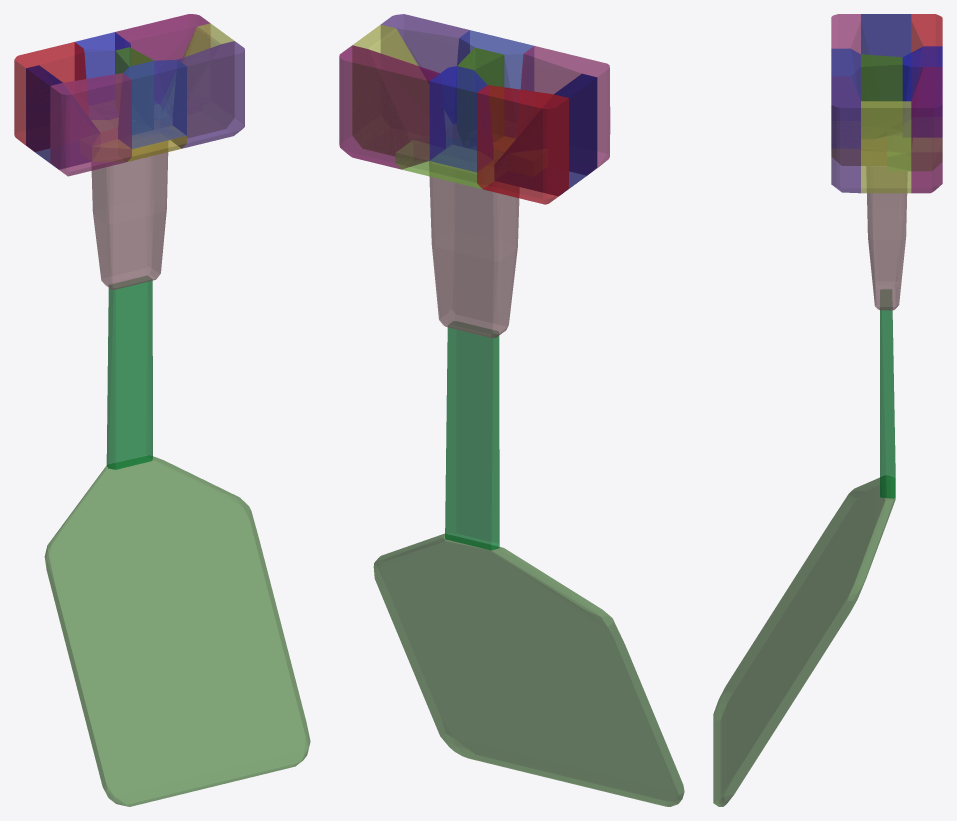
File: Holder_spatula.obj
3 views of the same model, side by side, from view 1: azimuth 30°, elevation 25°; view 2: azimuth 150°, elevation 25°; view 3: azimuth 270°, elevation 25° (orthographic). The views are drawn at different scales.
Visible parts, largest first — view 1: Shape_IndexedFaceSet_Shape_IndexedFaceSet.021, Shape_IndexedFaceSet.002_Shape_IndexedFaceSet.023, Shape_IndexedFaceSet.001_Shape_IndexedFaceSet.022, Shape_IndexedFaceSet.004_Shape_IndexedFaceSet.025, Shape_IndexedFaceSet.010_Shape_IndexedFaceSet.031, Shape_IndexedFaceSet.006_Shape_IndexedFaceSet.027, Shape_IndexedFaceSet.013_Shape_IndexedFaceSet.034, Shape_IndexedFaceSet.005_Shape_IndexedFaceSet.026, Shape_IndexedFaceSet.003_Shape_IndexedFaceSet.024, Shape_IndexedFaceSet.007_Shape_IndexedFaceSet.028, Shape_IndexedFaceSet.009_Shape_IndexedFaceSet.030, Shape_IndexedFaceSet.008_Shape_IndexedFaceSet.029 (+1 smaller); view 2: Shape_IndexedFaceSet_Shape_IndexedFaceSet.021, Shape_IndexedFaceSet.002_Shape_IndexedFaceSet.023, Shape_IndexedFaceSet.001_Shape_IndexedFaceSet.022, Shape_IndexedFaceSet.003_Shape_IndexedFaceSet.024, Shape_IndexedFaceSet.013_Shape_IndexedFaceSet.034, Shape_IndexedFaceSet.005_Shape_IndexedFaceSet.026, Shape_IndexedFaceSet.007_Shape_IndexedFaceSet.028, Shape_IndexedFaceSet.004_Shape_IndexedFaceSet.025, Shape_IndexedFaceSet.009_Shape_IndexedFaceSet.030, Shape_IndexedFaceSet.010_Shape_IndexedFaceSet.031, Shape_IndexedFaceSet.006_Shape_IndexedFaceSet.027, Shape_IndexedFaceSet.011_Shape_IndexedFaceSet.032 (+1 smaller); view 3: Shape_IndexedFaceSet_Shape_IndexedFaceSet.021, Shape_IndexedFaceSet.002_Shape_IndexedFaceSet.023, Shape_IndexedFaceSet.005_Shape_IndexedFaceSet.026, Shape_IndexedFaceSet.007_Shape_IndexedFaceSet.028, Shape_IndexedFaceSet.003_Shape_IndexedFaceSet.024, Shape_IndexedFaceSet.010_Shape_IndexedFaceSet.031, Shape_IndexedFaceSet.009_Shape_IndexedFaceSet.030, Shape_IndexedFaceSet.011_Shape_IndexedFaceSet.032, Shape_IndexedFaceSet.001_Shape_IndexedFaceSet.022, Shape_IndexedFaceSet.006_Shape_IndexedFaceSet.027, Shape_IndexedFaceSet.004_Shape_IndexedFaceSet.025, Shape_IndexedFaceSet.012_Shape_IndexedFaceSet.033 (+2 smaller).
Part boxes in pixels (x1,y1,x2,y2): Shape_IndexedFaceSet_Shape_IndexedFaceSet.021: (44, 456, 310, 806); Shape_IndexedFaceSet.002_Shape_IndexedFaceSet.023: (91, 141, 168, 289); Shape_IndexedFaceSet.001_Shape_IndexedFaceSet.022: (106, 276, 152, 469); Shape_IndexedFaceSet.004_Shape_IndexedFaceSet.025: (50, 73, 131, 176); Shape_IndexedFaceSet.010_Shape_IndexedFaceSet.031: (173, 41, 244, 148); Shape_IndexedFaceSet.006_Shape_IndexedFaceSet.027: (118, 59, 186, 148); Shape_IndexedFaceSet.013_Shape_IndexedFaceSet.034: (14, 42, 88, 151); Shape_IndexedFaceSet.005_Shape_IndexedFaceSet.026: (161, 23, 234, 141); Shape_IndexedFaceSet.003_Shape_IndexedFaceSet.024: (115, 14, 210, 103); Shape_IndexedFaceSet.007_Shape_IndexedFaceSet.028: (26, 65, 99, 168); Shape_IndexedFaceSet.009_Shape_IndexedFaceSet.030: (75, 32, 130, 119); Shape_IndexedFaceSet.008_Shape_IndexedFaceSet.029: (92, 120, 186, 161); Shape_IndexedFaceSet_Shape_IndexedFaceSet.021: (373, 533, 684, 806); Shape_IndexedFaceSet.002_Shape_IndexedFaceSet.023: (429, 161, 519, 337); Shape_IndexedFaceSet.001_Shape_IndexedFaceSet.022: (445, 321, 499, 550); Shape_IndexedFaceSet.003_Shape_IndexedFaceSet.024: (339, 45, 445, 169); Shape_IndexedFaceSet.013_Shape_IndexedFaceSet.034: (477, 85, 568, 204); Shape_IndexedFaceSet.005_Shape_IndexedFaceSet.026: (352, 24, 451, 155); Shape_IndexedFaceSet.007_Shape_IndexedFaceSet.028: (494, 73, 597, 195); Shape_IndexedFaceSet.004_Shape_IndexedFaceSet.025: (518, 46, 610, 174); Shape_IndexedFaceSet.009_Shape_IndexedFaceSet.030: (429, 66, 493, 172); Shape_IndexedFaceSet.010_Shape_IndexedFaceSet.031: (381, 14, 469, 122); Shape_IndexedFaceSet.006_Shape_IndexedFaceSet.027: (457, 30, 533, 137); Shape_IndexedFaceSet.011_Shape_IndexedFaceSet.032: (457, 47, 504, 147); Shape_IndexedFaceSet_Shape_IndexedFaceSet.021: (713, 476, 895, 806); Shape_IndexedFaceSet.002_Shape_IndexedFaceSet.023: (867, 166, 907, 310); Shape_IndexedFaceSet.005_Shape_IndexedFaceSet.026: (861, 101, 911, 193); Shape_IndexedFaceSet.007_Shape_IndexedFaceSet.028: (861, 14, 911, 100); Shape_IndexedFaceSet.003_Shape_IndexedFaceSet.024: (911, 67, 942, 193); Shape_IndexedFaceSet.010_Shape_IndexedFaceSet.031: (831, 76, 860, 193); Shape_IndexedFaceSet.009_Shape_IndexedFaceSet.030: (902, 46, 942, 137); Shape_IndexedFaceSet.011_Shape_IndexedFaceSet.032: (861, 54, 902, 138); Shape_IndexedFaceSet.001_Shape_IndexedFaceSet.022: (880, 290, 895, 498); Shape_IndexedFaceSet.006_Shape_IndexedFaceSet.027: (831, 48, 860, 147); Shape_IndexedFaceSet.004_Shape_IndexedFaceSet.025: (831, 14, 860, 98); Shape_IndexedFaceSet.012_Shape_IndexedFaceSet.033: (887, 133, 942, 170).
Size of the model in its own units: 0.0887 by 0.2805 by 0.083.
